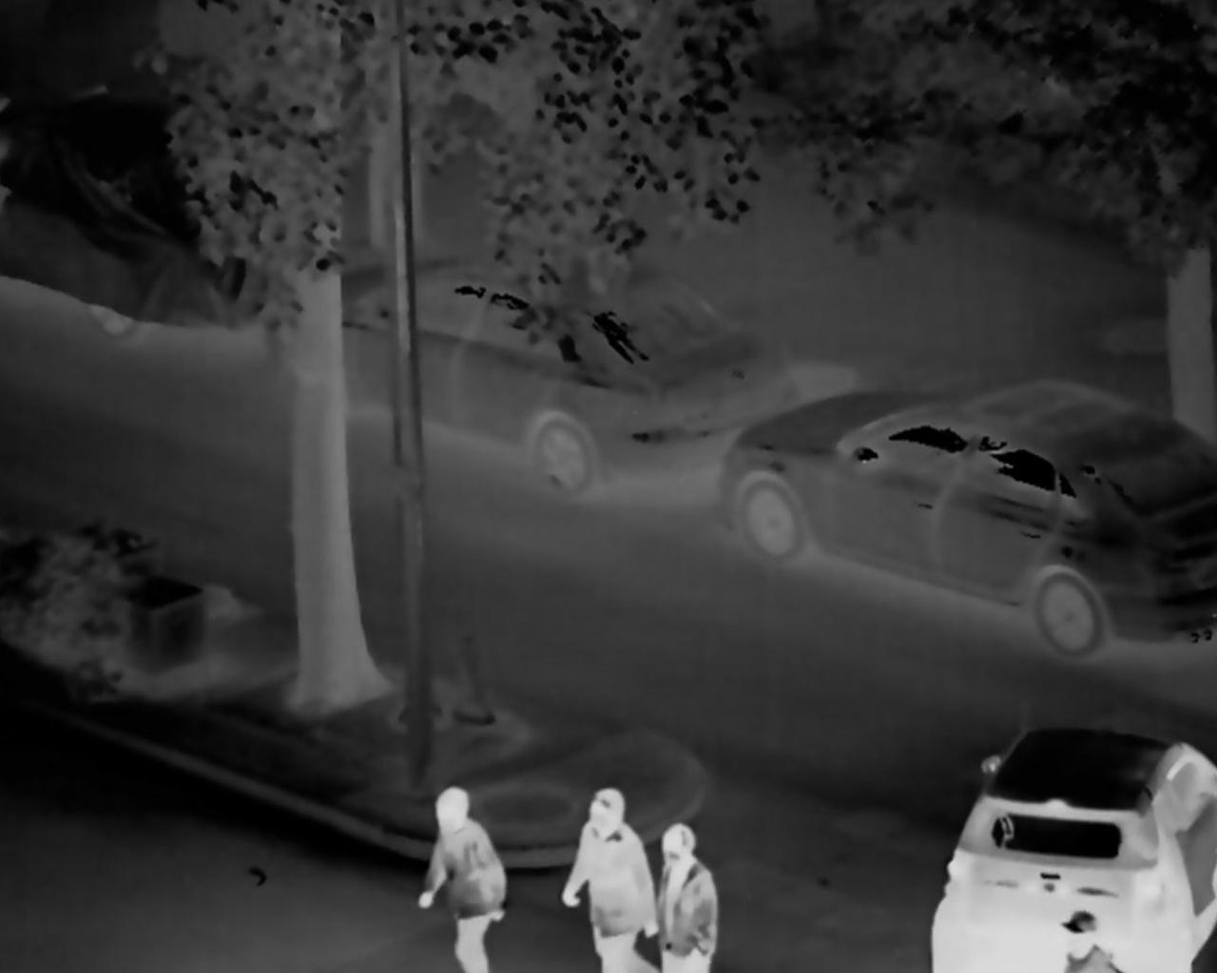person: (555, 780, 660, 973), (411, 781, 516, 973), (647, 822, 726, 973)
